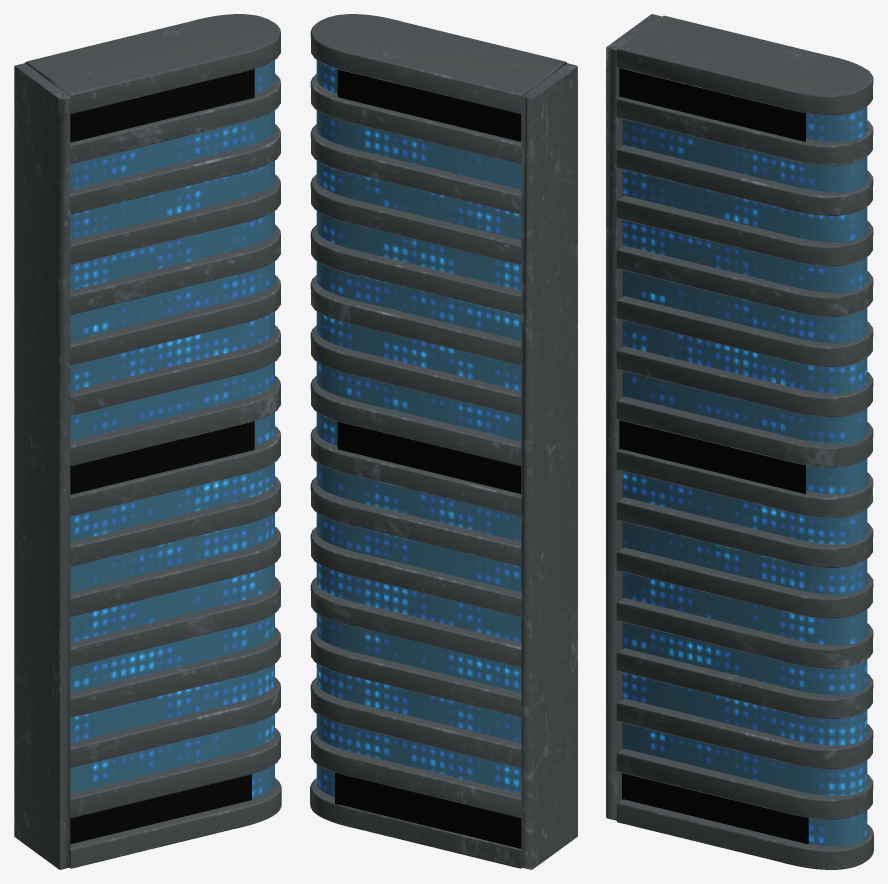
Rendered from BLD1310021.fbx.
The picture shows the model from 3 angles, left to right: view 1: azimuth 30°, elevation 25°; view 2: azimuth 150°, elevation 25°; view 3: azimuth 330°, elevation 25°; orthographic projection.
Visible parts, largest first — view 1: smBLD1310021; view 2: smBLD1310021; view 3: smBLD1310021.
Part boxes in pixels (bbox=[...]): smBLD1310021: bbox=[14, 14, 281, 869]; smBLD1310021: bbox=[310, 14, 577, 869]; smBLD1310021: bbox=[606, 14, 873, 869].
Bounding box in the file's own units: 1634 × 5066 × 553.
2 materials, 1 textured.
